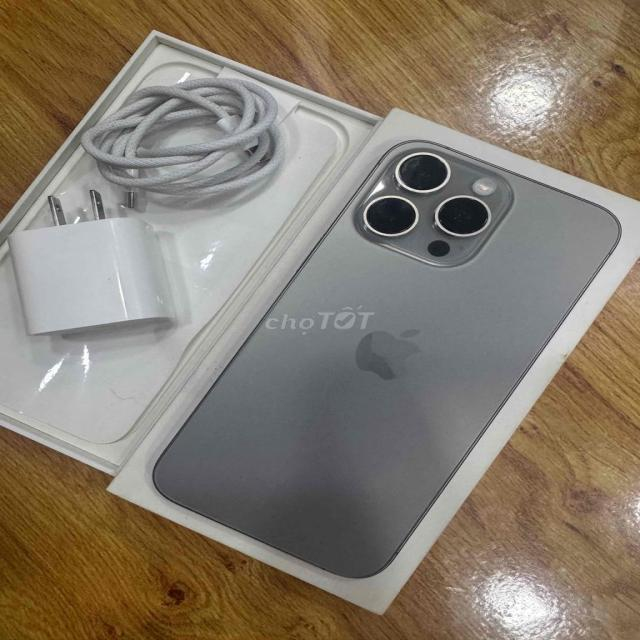gen_15: (150, 120, 633, 603)
